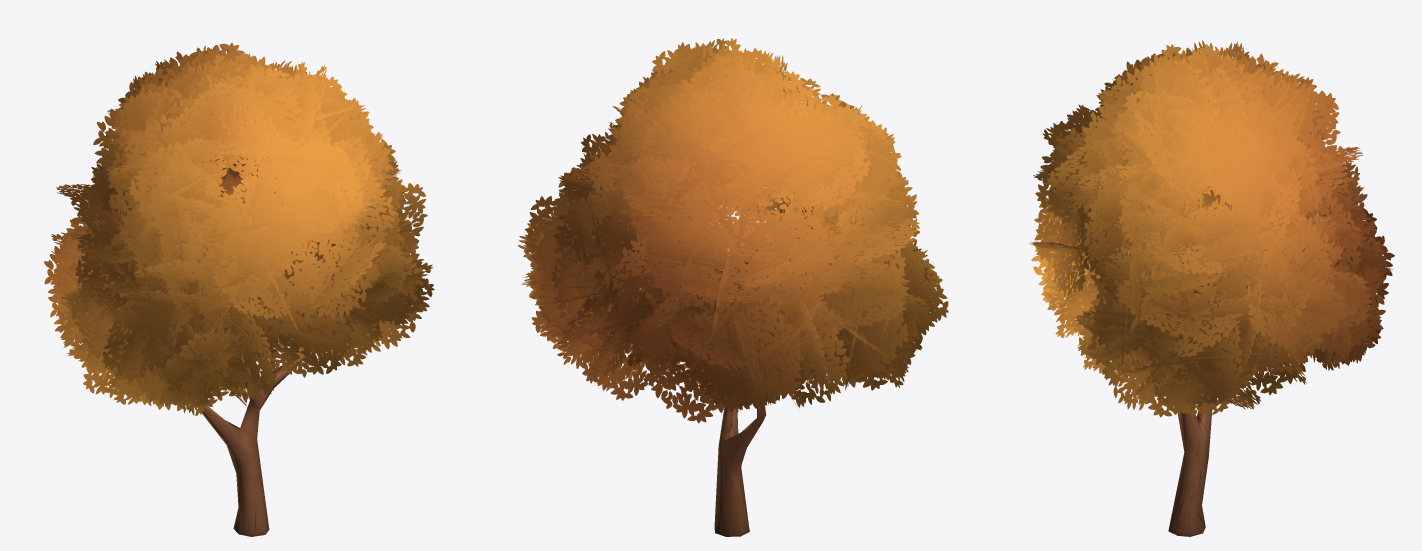
Rendered from tree01-7m4459bd.glb.
3 views of the same model, side by side, from view 1: azimuth 30°, elevation 25°; view 2: azimuth 150°, elevation 25°; view 3: azimuth 270°, elevation 25° (orthographic). The views are drawn at different scales.
Parts seen in each view (by area): view 1: tree01; view 2: tree01; view 3: tree01.
Boxes of the visible parts, x1=… form: tree01: x1=44, y1=42, x2=434, y2=536; tree01: x1=518, y1=38, x2=948, y2=536; tree01: x1=1028, y1=40, x2=1394, y2=536.
Bounding box in the file's own units: 9.72 × 11.53 × 8.57.
2 materials, 2 textured.
